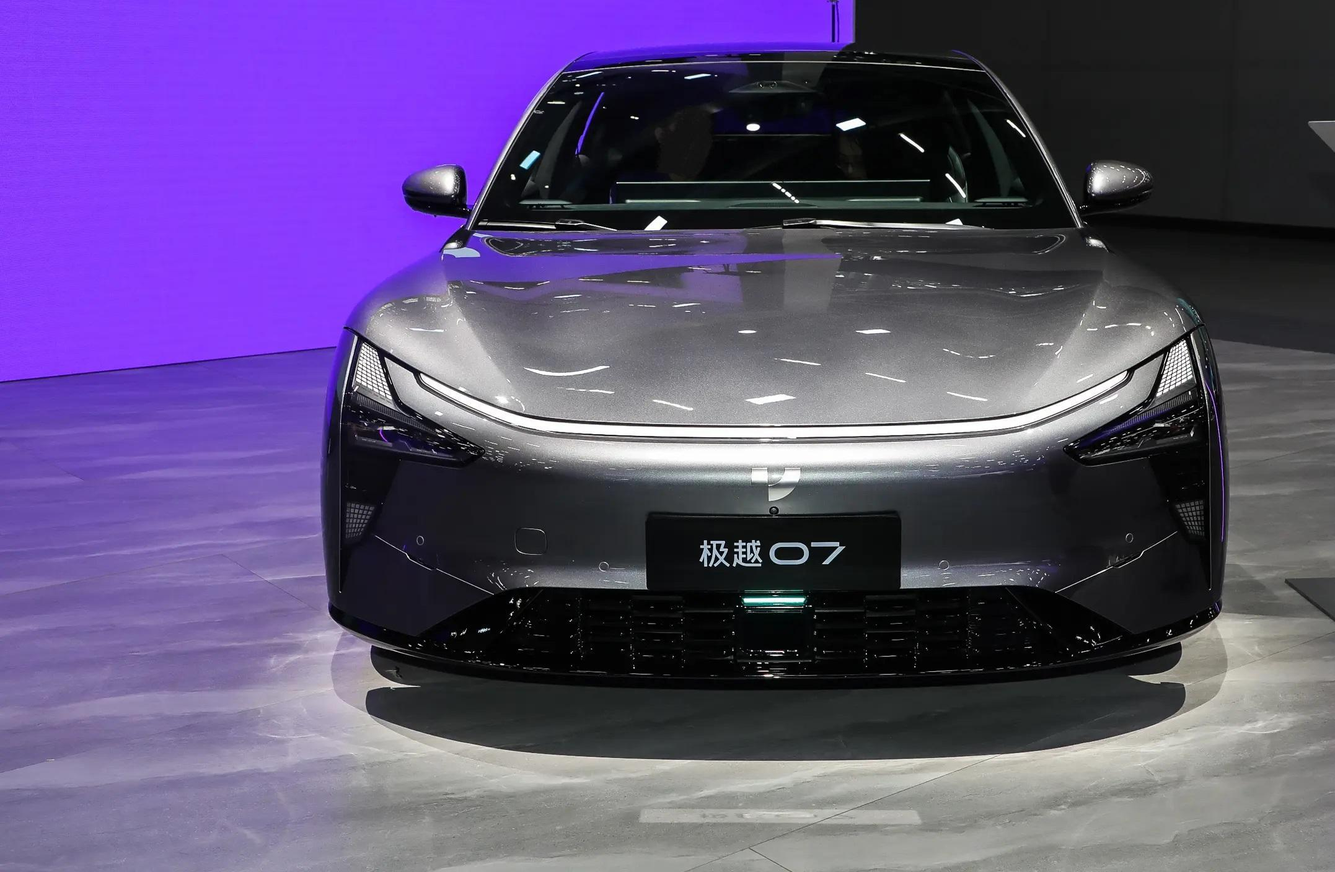JIYUE: (750, 466, 801, 502)
